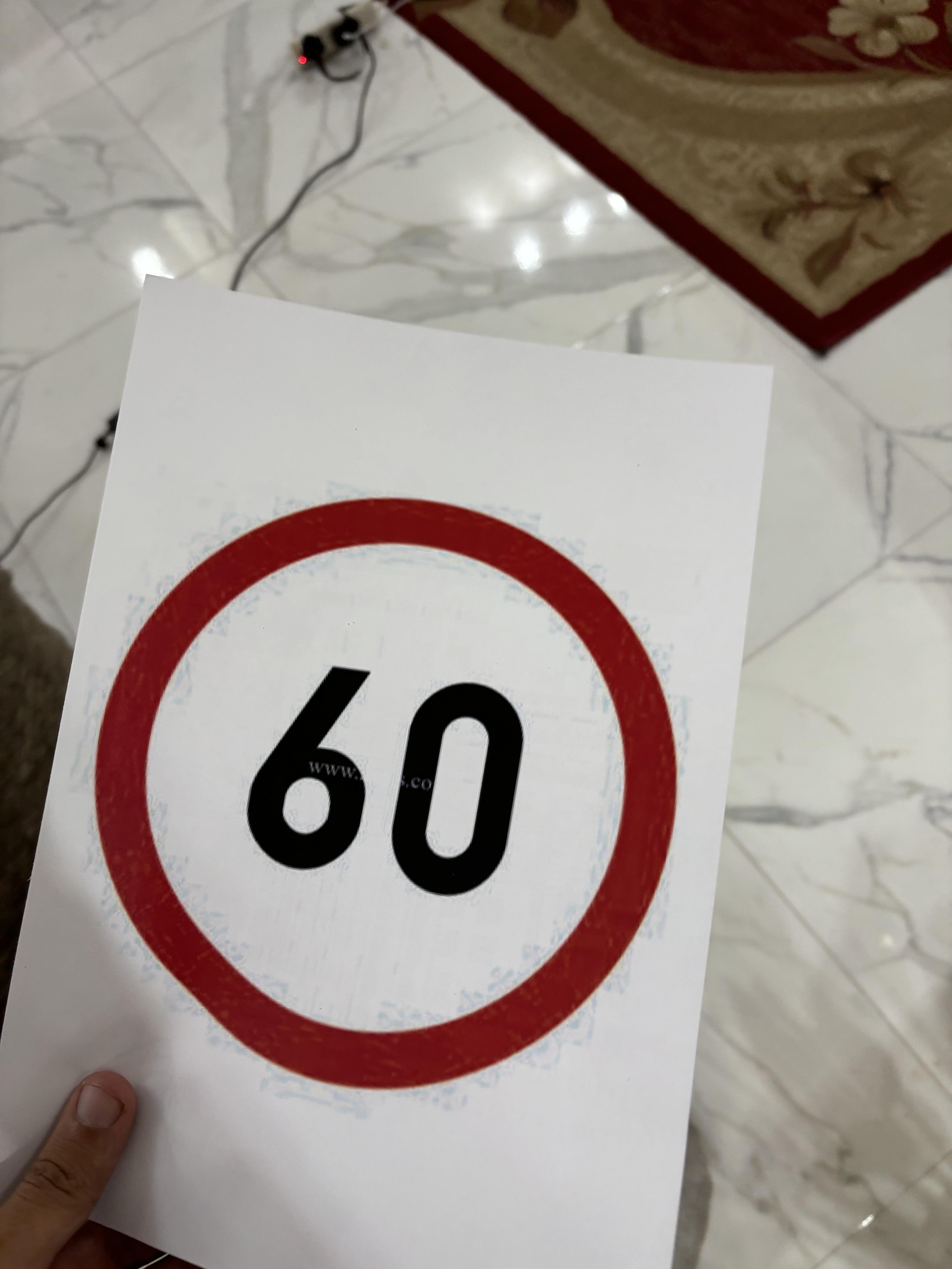60-Speed: (85, 496, 683, 1087)
